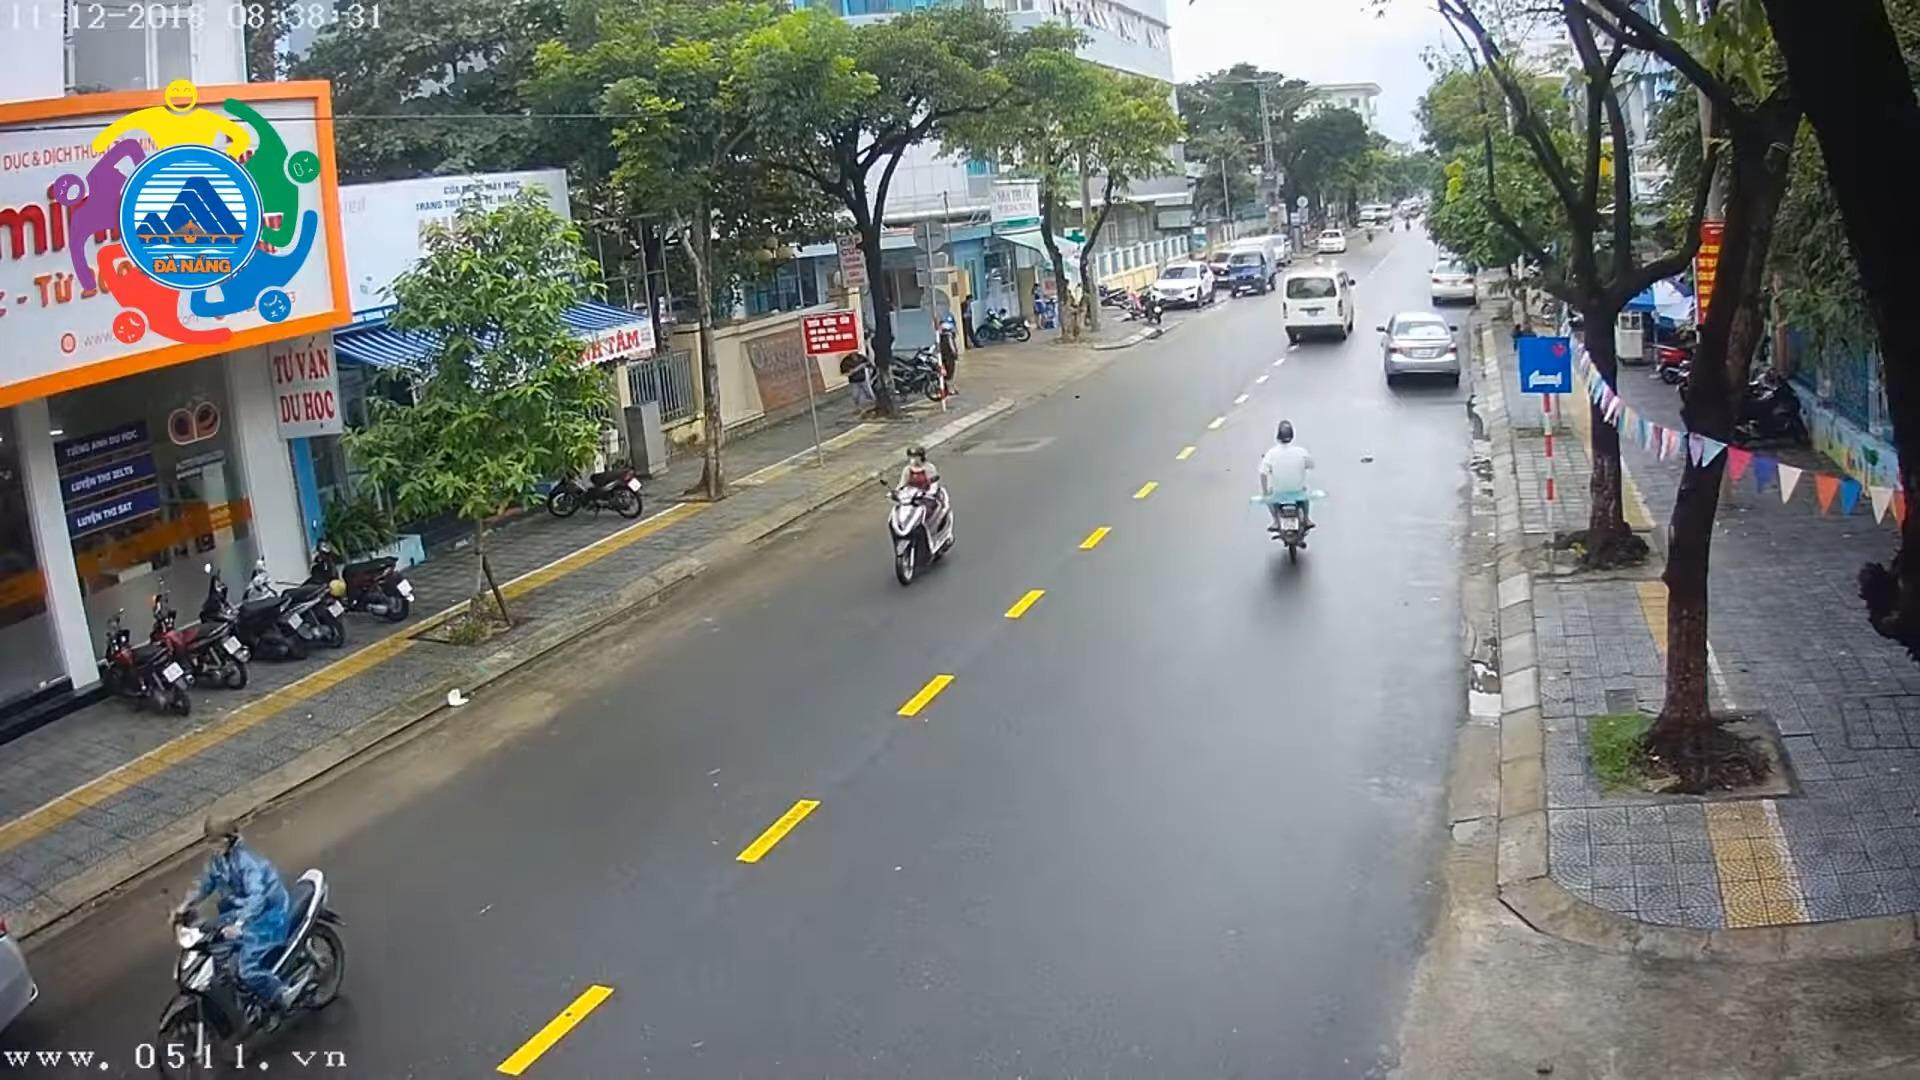ambulance: (1278, 253, 1360, 351)
car: (1374, 314, 1464, 394), (1147, 253, 1218, 314), (1425, 241, 1476, 313), (1308, 224, 1353, 258)
motorcycle: (146, 803, 359, 1079), (1234, 407, 1336, 576), (98, 592, 196, 729), (196, 553, 313, 665), (882, 438, 968, 588), (307, 521, 425, 625), (247, 545, 351, 659), (146, 585, 252, 690), (840, 338, 957, 410), (534, 443, 651, 514), (968, 297, 1033, 347)
truck: (1220, 232, 1288, 306)
